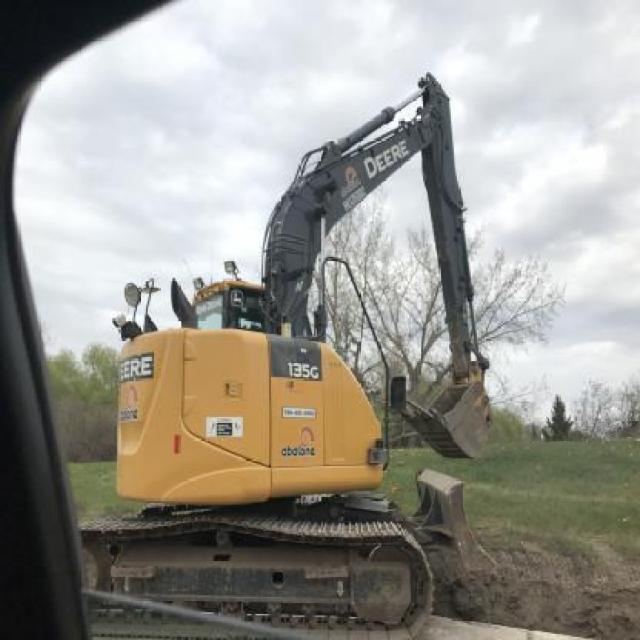excavator: (74, 70, 500, 638)
